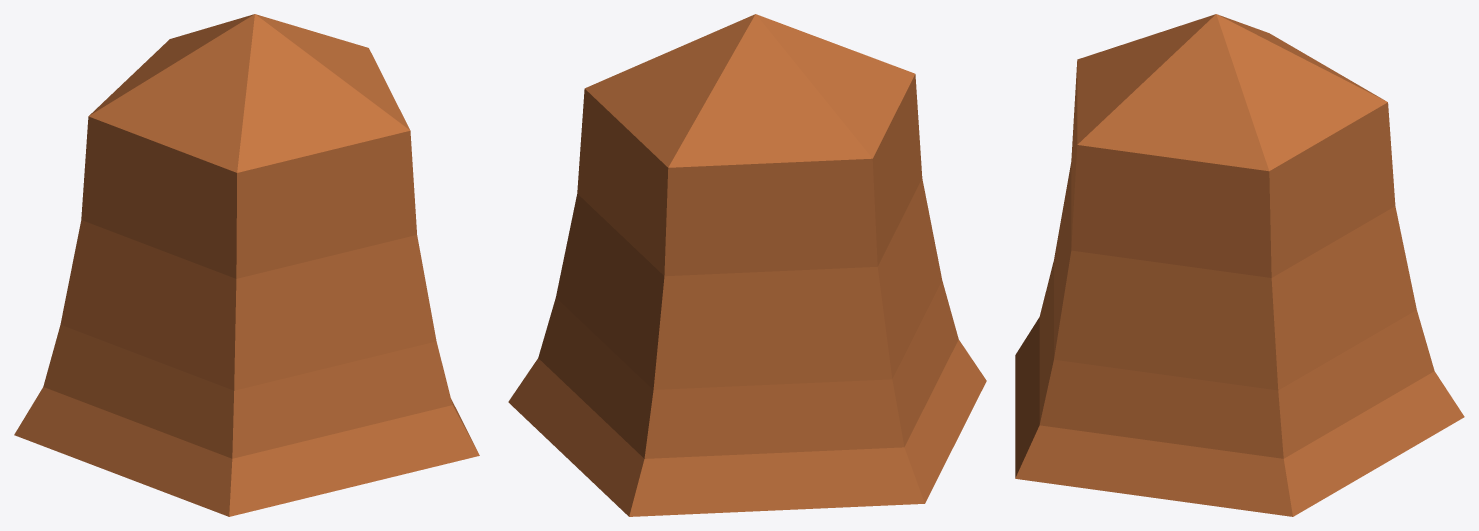
File: Bell_1.fbx
3 renders of one model, left to right at view 1: azimuth 30°, elevation 25°; view 2: azimuth 150°, elevation 25°; view 3: azimuth 270°, elevation 25°, orthographic. The views are drawn at different scales.
Parts seen in each view (by area): view 1: Cylinder.001; view 2: Cylinder.001; view 3: Cylinder.001.
Part boxes in pixels (bbox=[...]): Cylinder.001: bbox=[14, 14, 479, 516]; Cylinder.001: bbox=[508, 14, 986, 516]; Cylinder.001: bbox=[1015, 14, 1464, 516].
Bounding box in the file's own units: 12.03 × 11.31 × 11.44.
